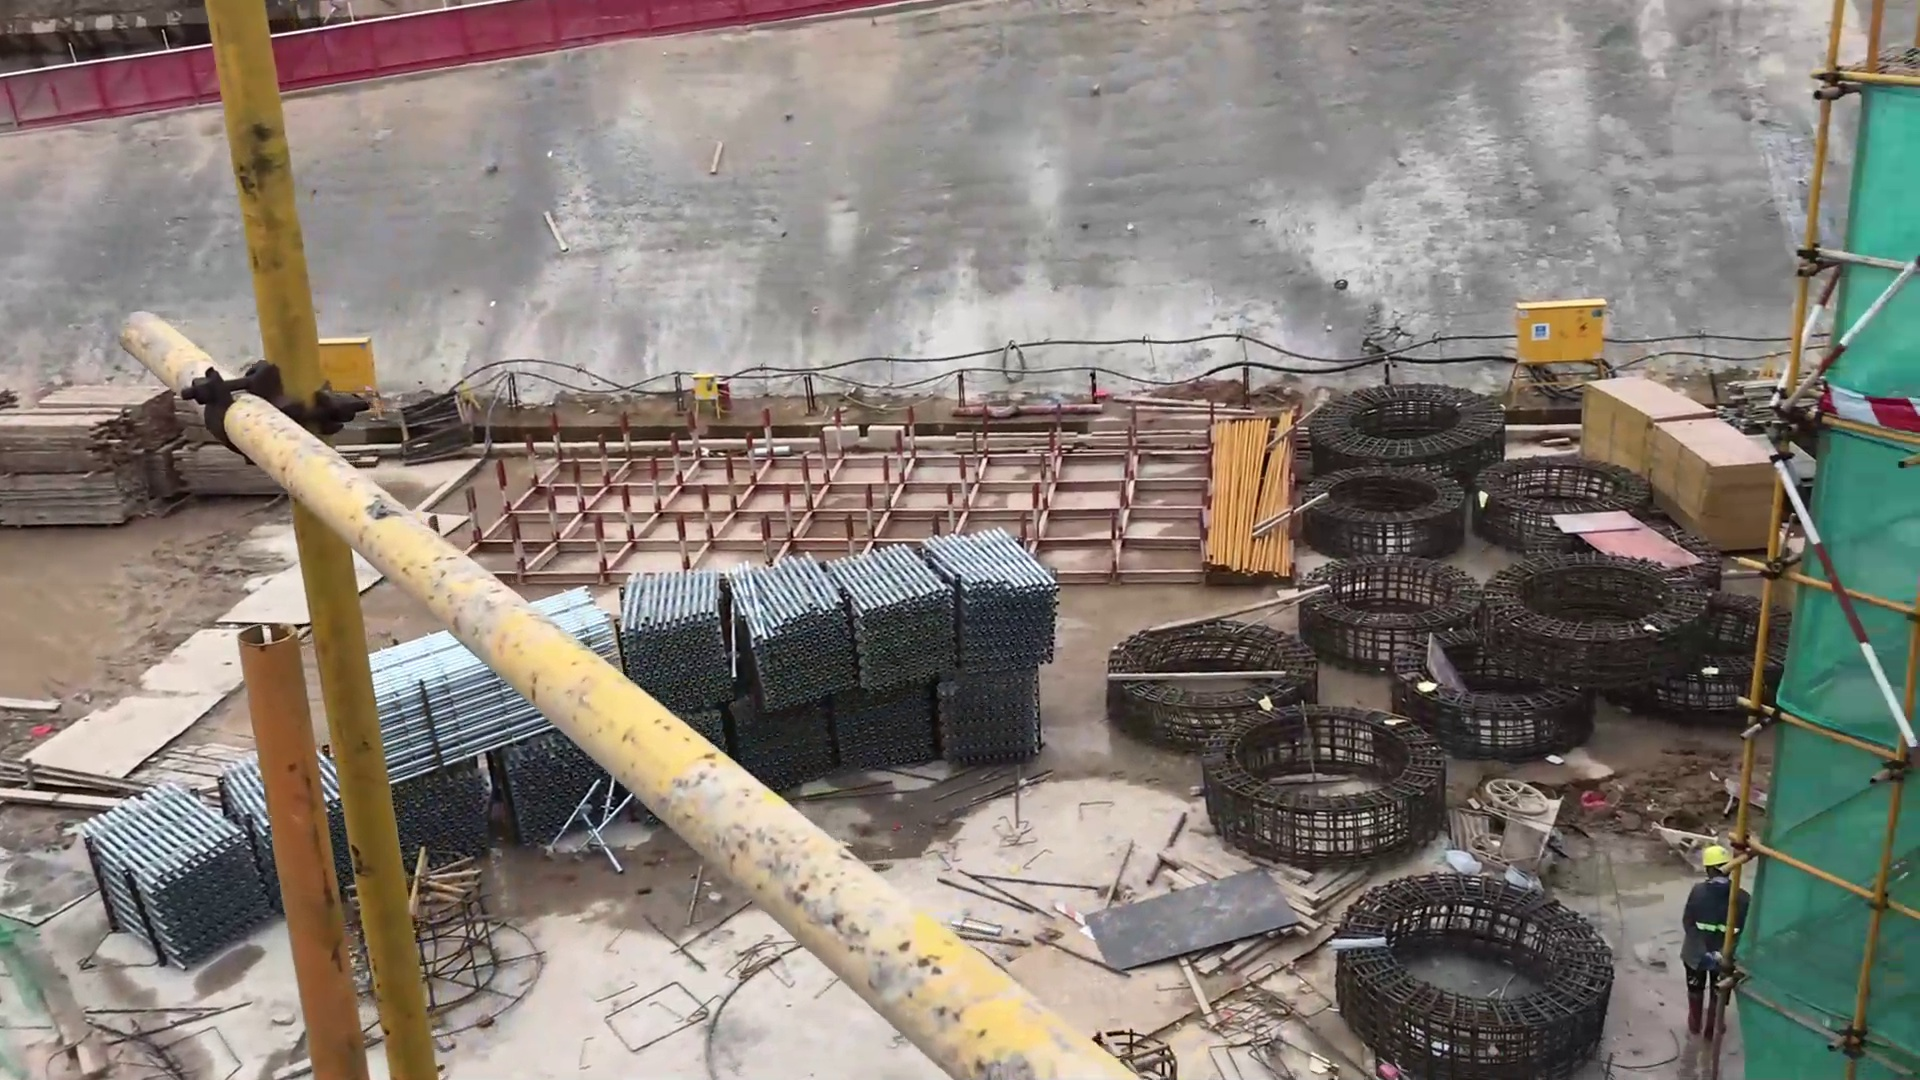board: (1589, 350, 1791, 550), (1548, 497, 1701, 594)
ebox: (1510, 293, 1612, 372), (315, 324, 390, 424), (692, 371, 721, 421)
fence: (306, 1, 531, 90)
helmet: (1701, 846, 1731, 868)
person: (1682, 839, 1750, 1051)
scaffold: (74, 779, 267, 979), (371, 635, 560, 782), (932, 520, 1075, 676), (833, 530, 962, 696), (738, 552, 855, 719), (740, 690, 929, 781), (625, 571, 740, 711), (941, 674, 1054, 778)
wood: (14, 371, 164, 530), (173, 444, 263, 507)
